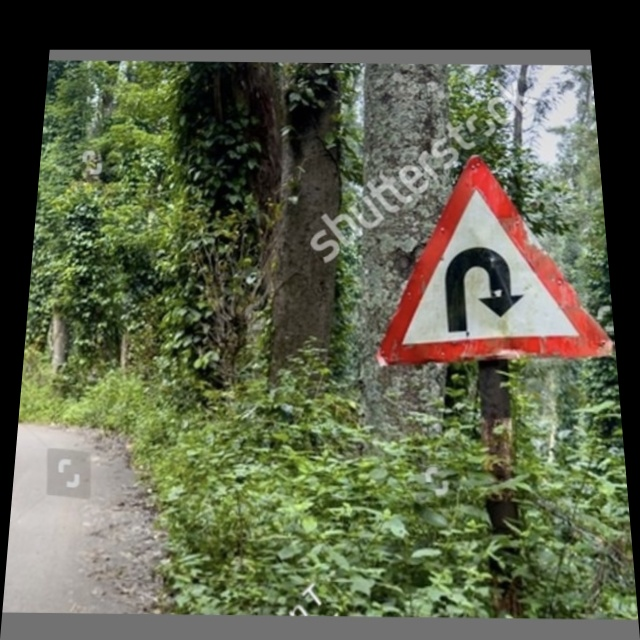Right_Hair_Pin_Bend: (383, 152, 615, 357)
